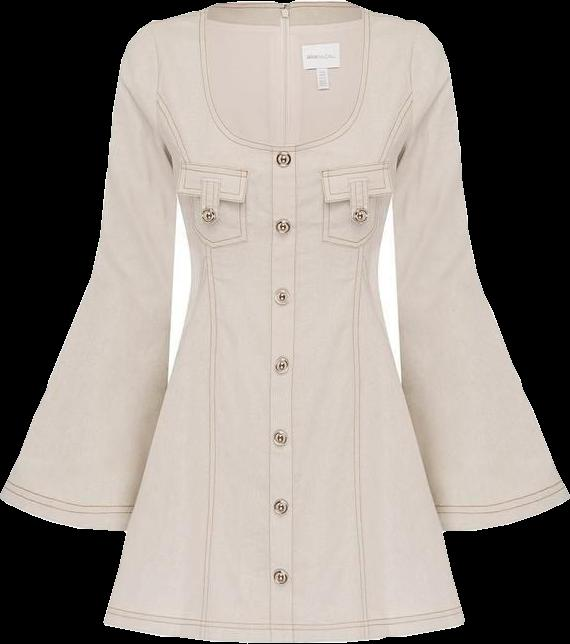Bodice: (148, 0, 419, 275)
Hemline: (102, 617, 467, 643)
Neckline: (201, 8, 369, 148)
Skirt: (105, 274, 464, 642)
Sleeve: (391, 20, 569, 530), (0, 20, 178, 530)
Sleeveline: (386, 75, 452, 199), (117, 77, 179, 196), (143, 21, 165, 128), (409, 22, 424, 133)
